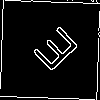E: (25, 25, 81, 80)
